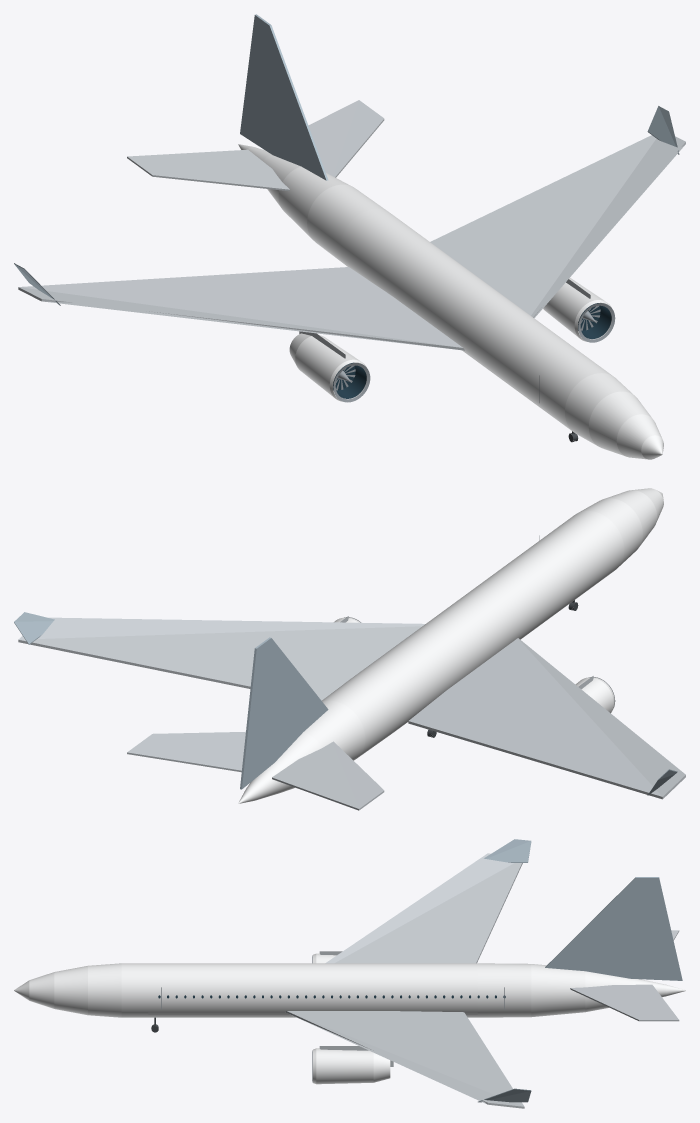
Rendered from a35k-neutral-v4.gltf.
The picture shows the model from 3 angles, top to bottom: view 1: azimuth 30°, elevation 25°; view 2: azimuth 150°, elevation 25°; view 3: azimuth 270°, elevation 25°; orthographic projection. The views are drawn at different scales.
Parts seen in each view (by area): view 1: object 1; view 2: object 1; view 3: object 1.
Part boxes in pixels (bbox=[...]): object 1: bbox=[14, 14, 685, 459]; object 1: bbox=[14, 488, 685, 810]; object 1: bbox=[14, 839, 685, 1108].
Size of the model in its own units: 65 by 19.16 by 74.
